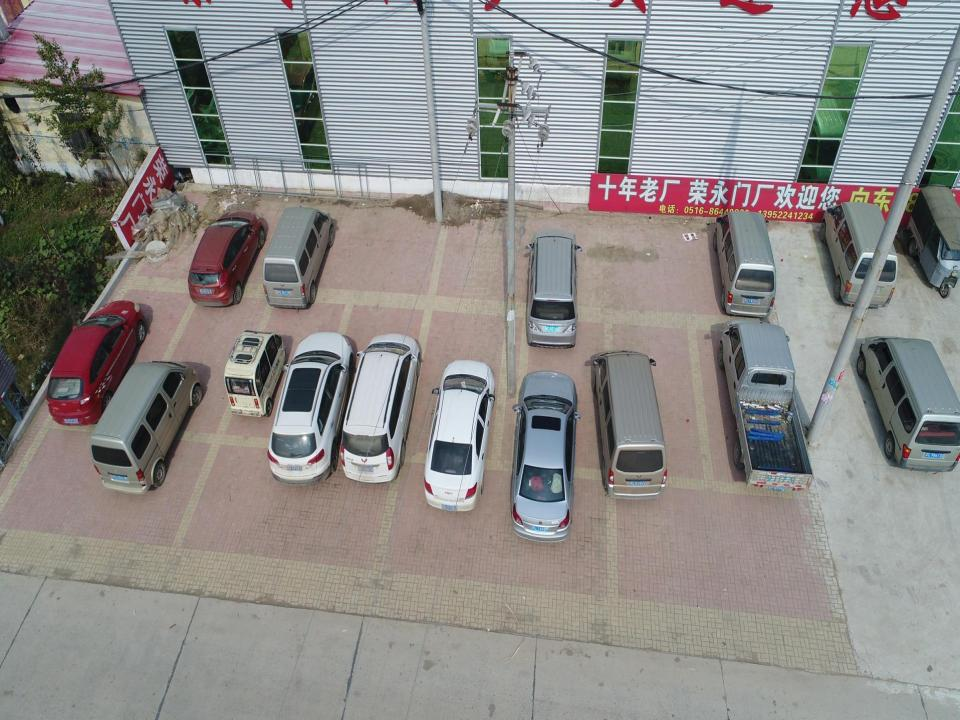car: (268, 332, 353, 484), (46, 298, 146, 427), (340, 332, 421, 484), (511, 372, 581, 542), (422, 361, 496, 514), (188, 210, 265, 308), (223, 330, 285, 417)
truck: (718, 320, 812, 491)
van: (91, 362, 204, 494), (856, 336, 959, 471), (592, 351, 668, 501), (818, 202, 898, 309), (261, 206, 334, 309), (524, 231, 582, 348), (712, 212, 776, 318)
